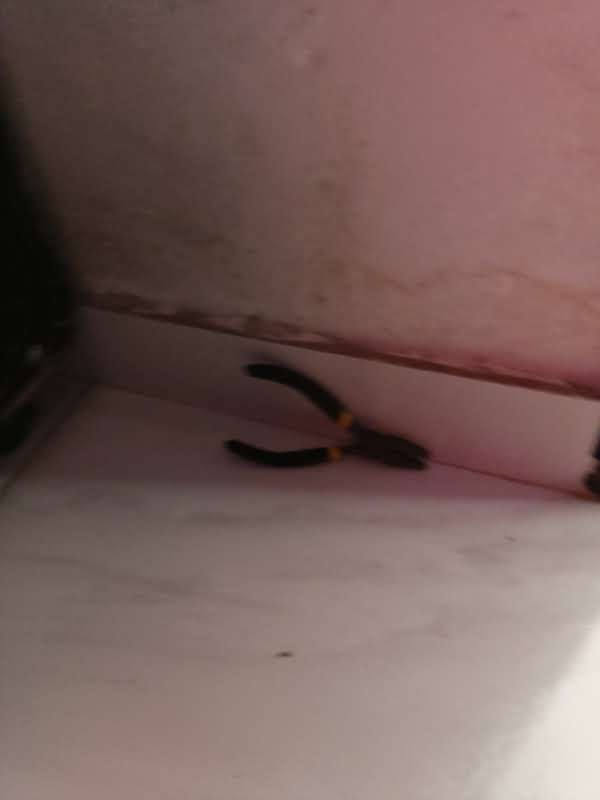Pinzas: (223, 363, 427, 469)
